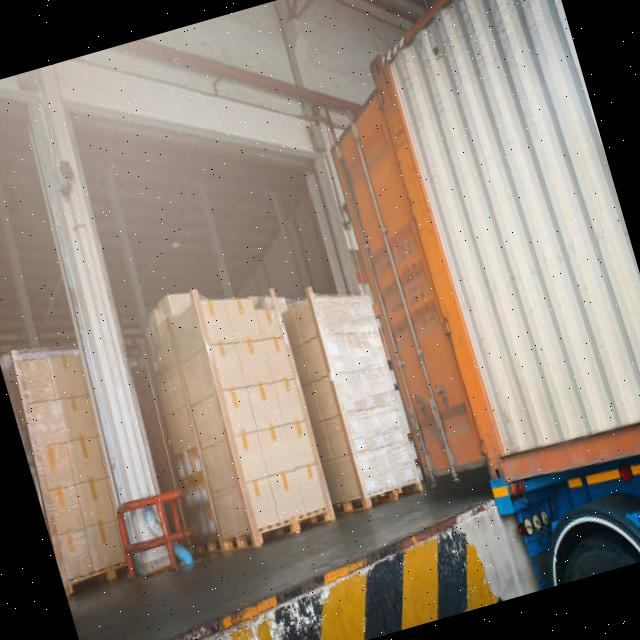Wooden-Pallets: (212, 501, 338, 556), (337, 471, 430, 524)
